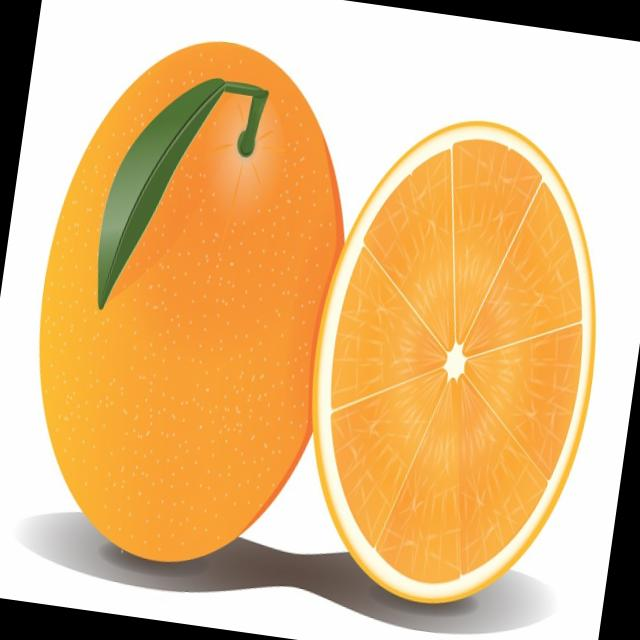orange: (6, 5, 388, 583)
